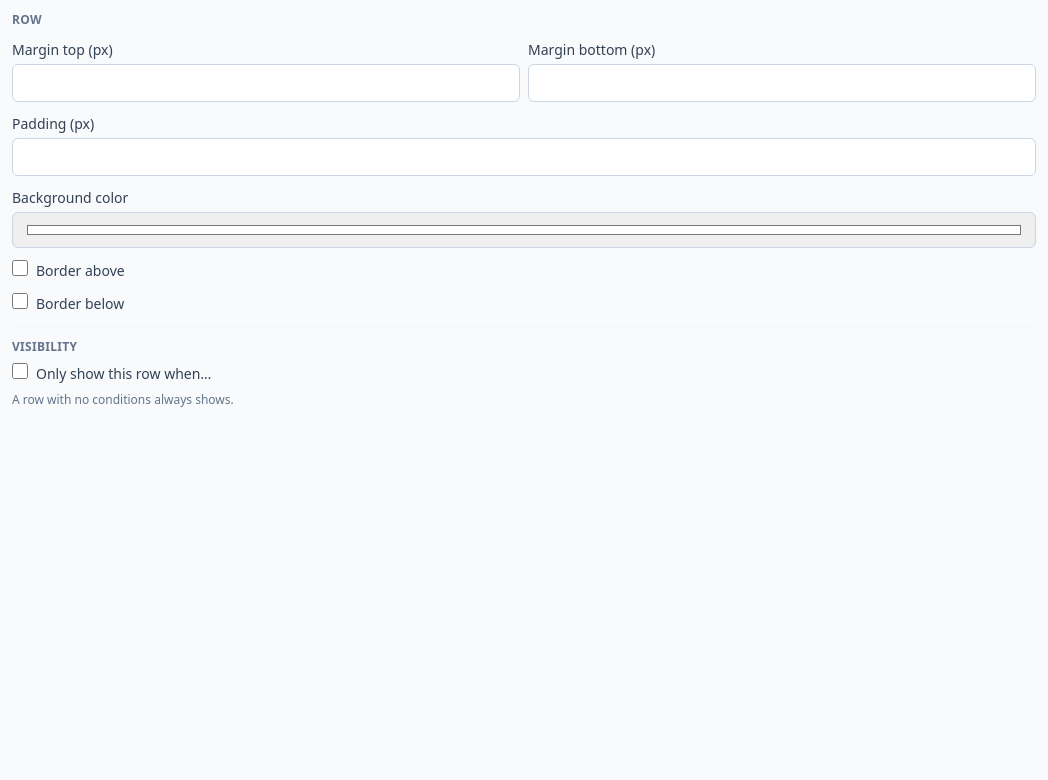
Test case: InspectorPanel row Visibility section › the Match selector appears once a second rule is added, and disappears again after removing it
Click the checkbox labelled "Only show this row when…": (20, 371) top-left (12, 363), bottom-right (28, 379)
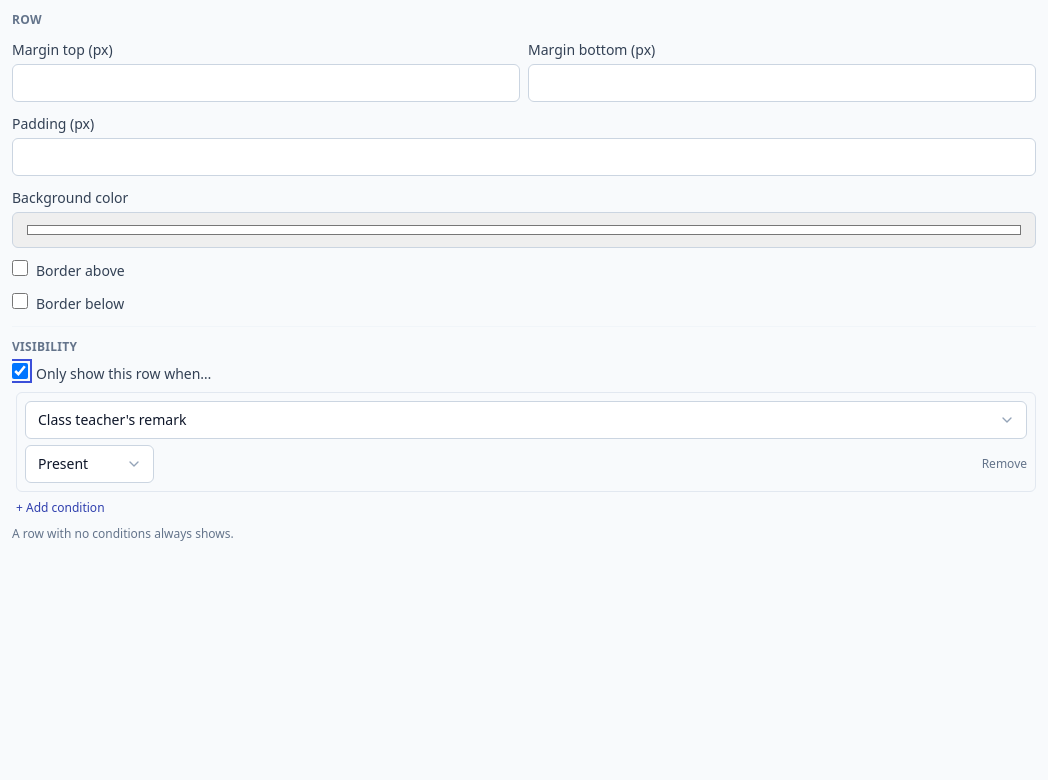
Click the button "+ Add condition": (60, 508) top-left (16, 500), bottom-right (105, 516)
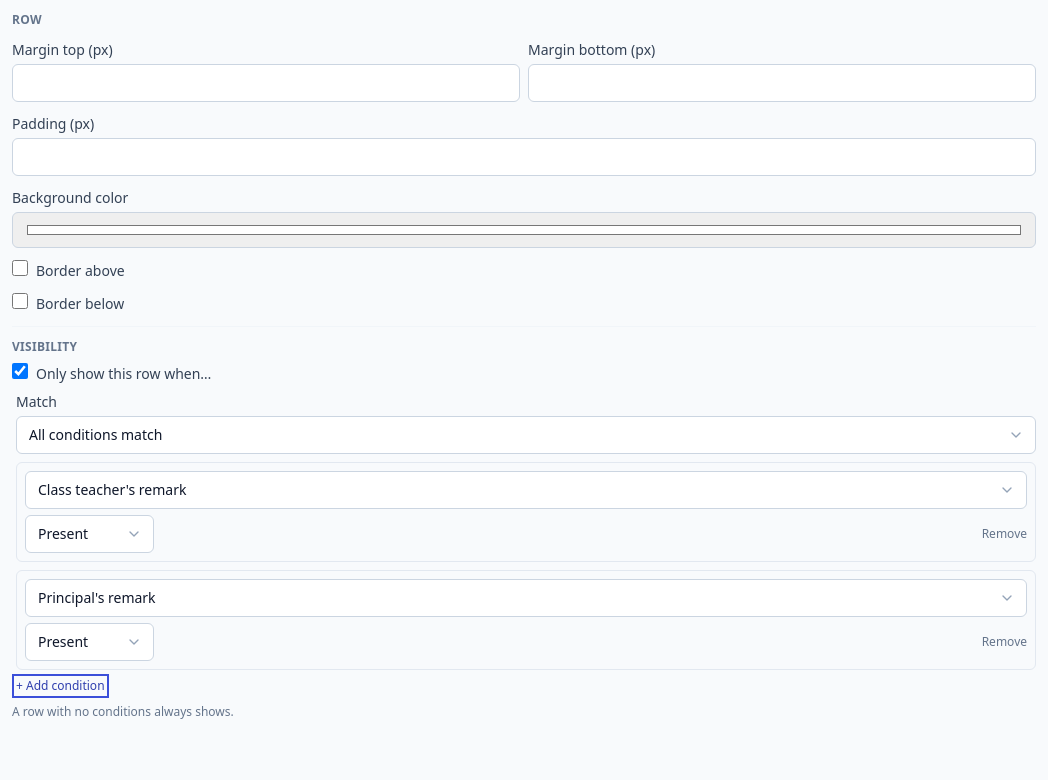
Check: the dropdown labelled "Match" is shown, box top-left (16, 416), bottom-right (1036, 454)
Check: the number of dropdowns named "Condition" is 2, box top-left (25, 471), bottom-right (1027, 509); top-left (25, 579), bottom-right (1027, 617)
Click the 2nd button "Remove": (1004, 642) top-left (982, 634), bottom-right (1027, 650)
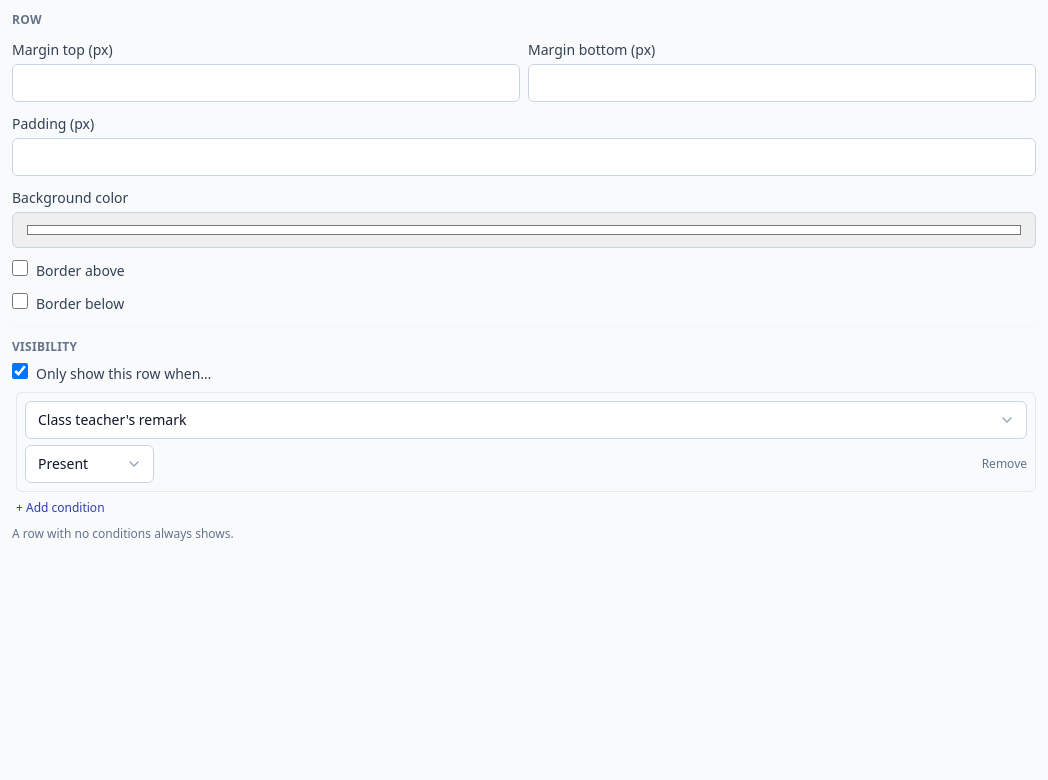
Check: the label labelled "Match" is gone
Check: the number of dropdowns named "Condition" is 1, box top-left (25, 401), bottom-right (1027, 439)
